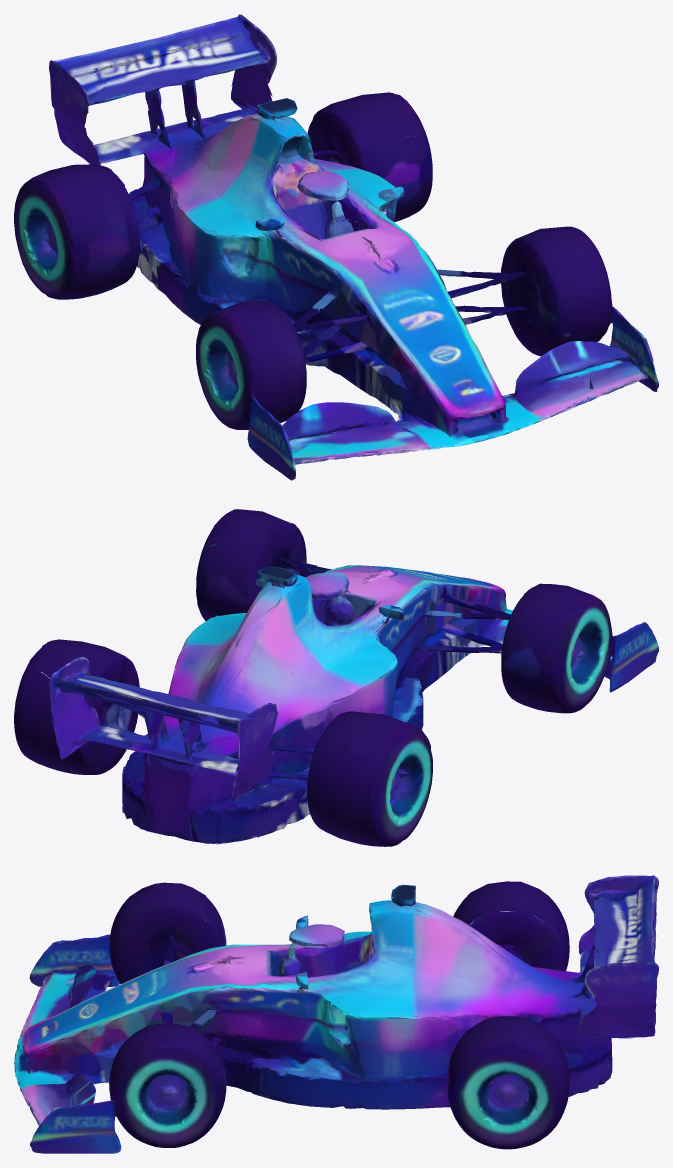
File: formulae1.glb
3 renders of one model, top to bottom at view 1: azimuth 30°, elevation 25°; view 2: azimuth 150°, elevation 25°; view 3: azimuth 270°, elevation 25°, orthographic. The views are drawn at different scales.
Visible parts, largest first — view 1: body, wheel_front_R, wheel_front_L, wheel_rear_L, wheel_rear_R; view 2: body, wheel_front_L, wheel_rear_L, wheel_rear_R, wheel_front_R; view 3: body, wheel_rear_R, wheel_front_R, wheel_front_L, wheel_rear_L.
Part boxes in pixels (<box>): body: <box>20,14,601,464</box>; wheel_front_R: <box>482,227,658,407</box>; wheel_front_L: <box>196,304,391,480</box>; wheel_rear_L: <box>14,180,221,324</box>; wheel_rear_R: <box>307,110,432,248</box>; body: <box>24,509,612,844</box>; wheel_front_L: <box>411,587,658,716</box>; wheel_rear_L: <box>295,723,432,846</box>; wheel_rear_R: <box>14,655,141,774</box>; wheel_front_R: <box>196,514,322,620</box>; body: <box>14,875,658,1114</box>; wheel_rear_R: <box>296,1021,569,1149</box>; wheel_front_R: <box>28,1038,327,1153</box>; wheel_front_L: <box>29,898,226,1012</box>; wheel_rear_L: <box>344,897,569,1025</box>.
Size of the model in its own units: 2.48 by 1.23 by 4.
1 material, 1 textured.
